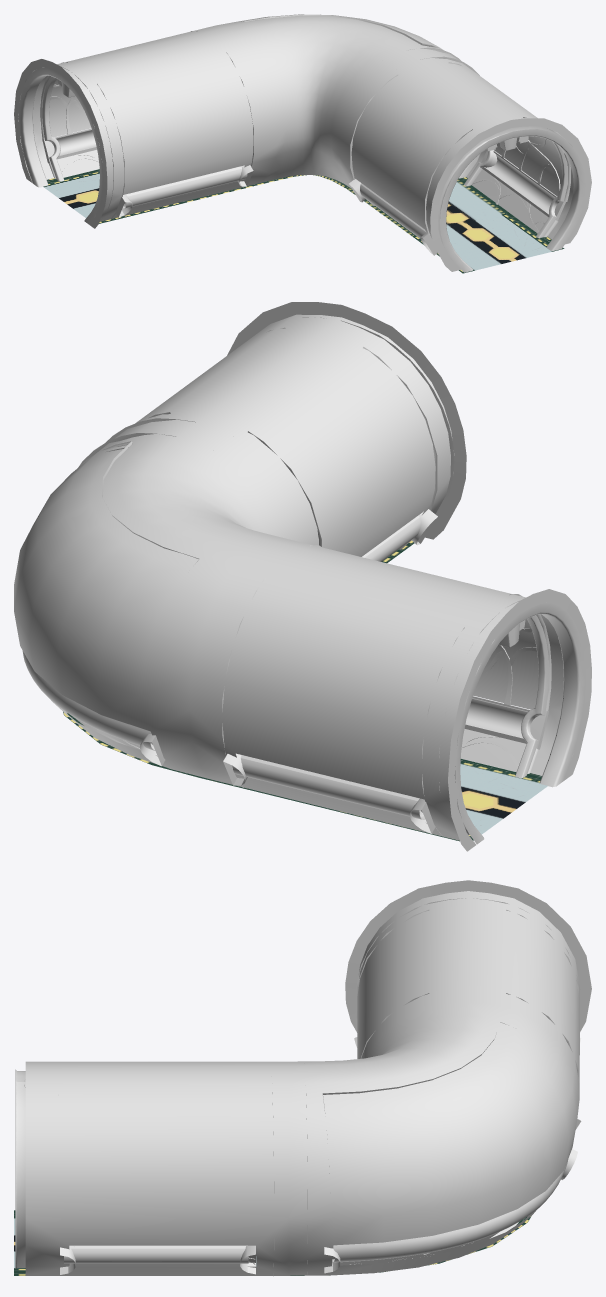
The model's file is Hallway_Final_Bend_Decimate(RE).fbx.
3 views of the same model, one above another, from view 1: azimuth 30°, elevation 25°; view 2: azimuth 150°, elevation 25°; view 3: azimuth 270°, elevation 25° (orthographic). The views are drawn at different scales.
Visible parts, largest first — view 1: polySurface7512; view 2: polySurface7512; view 3: polySurface7512.
Boxes of the visible parts, box(x1,y1,x2,y2) form: polySurface7512: box(14, 14, 591, 273); polySurface7512: box(14, 302, 591, 851); polySurface7512: box(14, 880, 591, 1276).
Bounding box in the file's own units: 2104 × 762 × 2191.
Materials: 5 (1 with a texture image).
